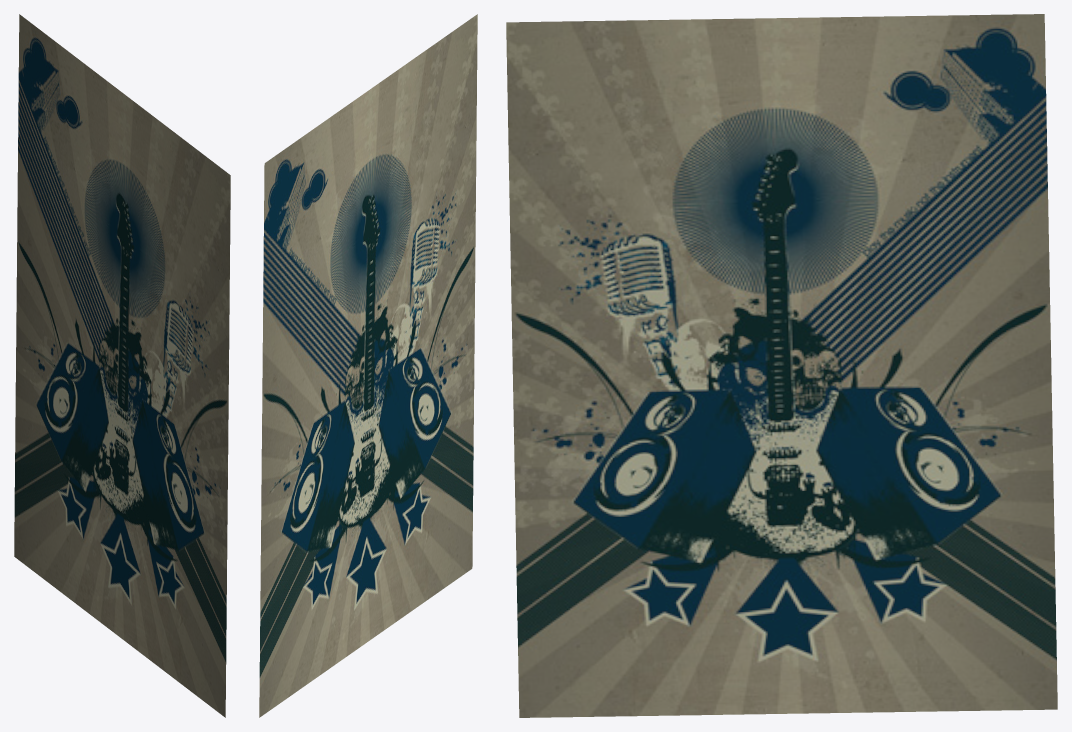
The model's file is mcp_wall_poster_02.FBX.
3 views of the same model, side by side, from view 1: azimuth 30°, elevation 25°; view 2: azimuth 150°, elevation 25°; view 3: azimuth 270°, elevation 25° (orthographic). The views are drawn at different scales.
Parts seen in each view (by area): view 1: mcp_wall_poster_02; view 2: mcp_wall_poster_02; view 3: mcp_wall_poster_02.
Boxes of the visible parts, x1,y1,x2,y2 form: mcp_wall_poster_02: [14, 14, 230, 717]; mcp_wall_poster_02: [259, 14, 477, 717]; mcp_wall_poster_02: [506, 14, 1057, 717].
Size of the model in its own units: 0 by 88.4 by 124.
